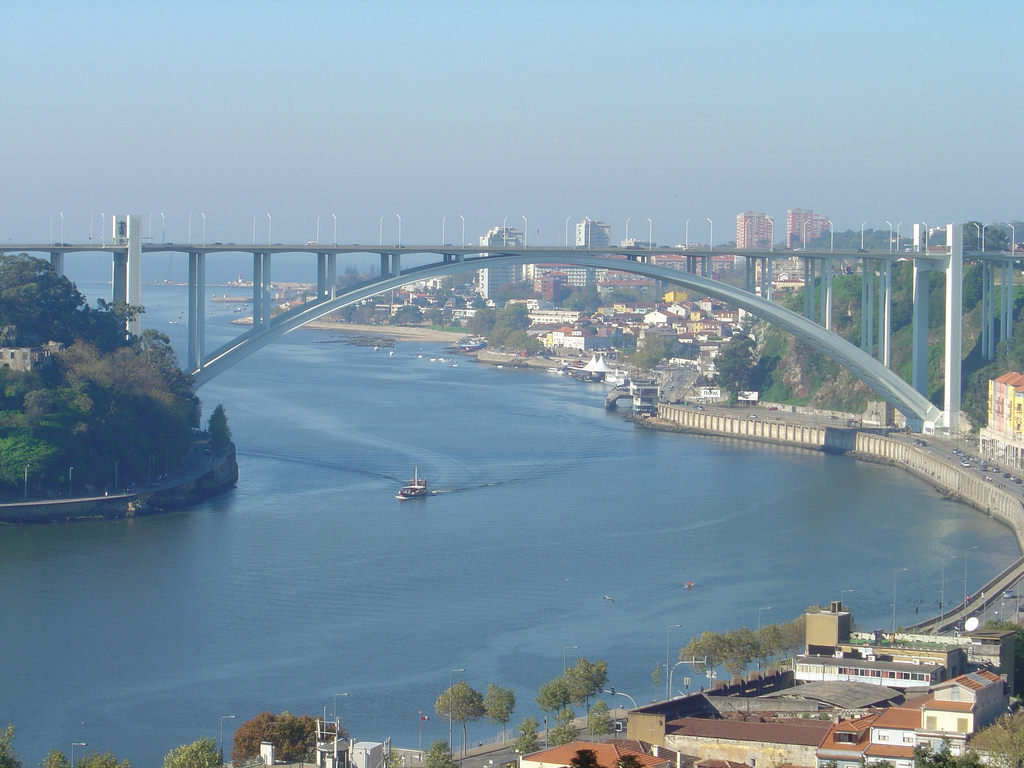arrabida: (0, 212, 1023, 439)
